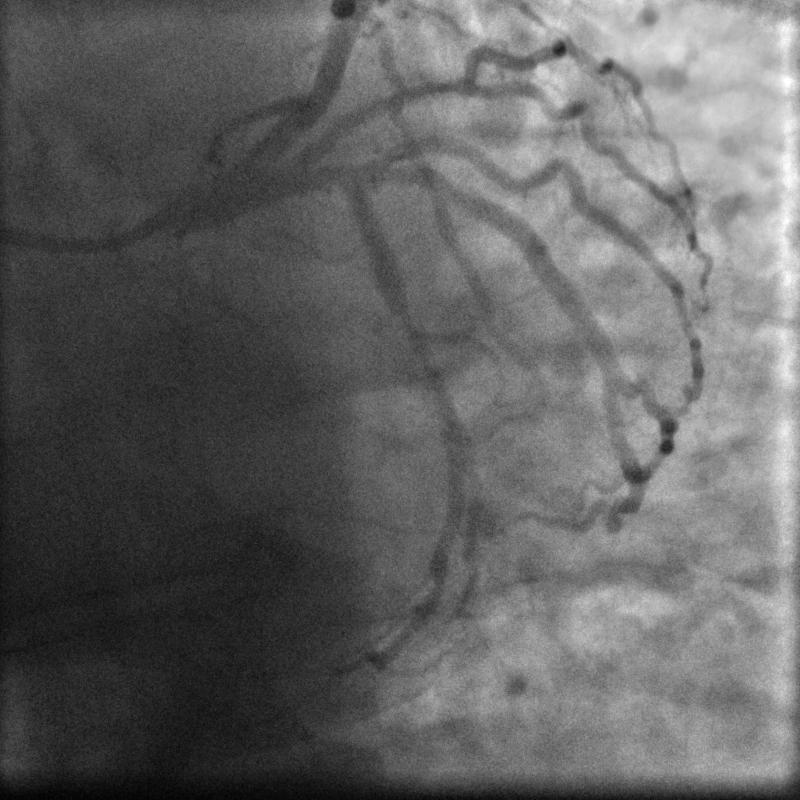Stenosis: (398, 315, 455, 415)
